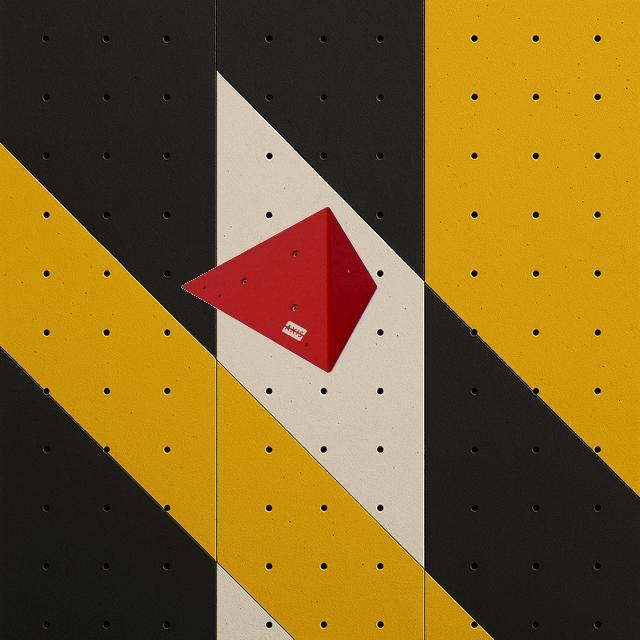Volume: (180, 205, 378, 372)
